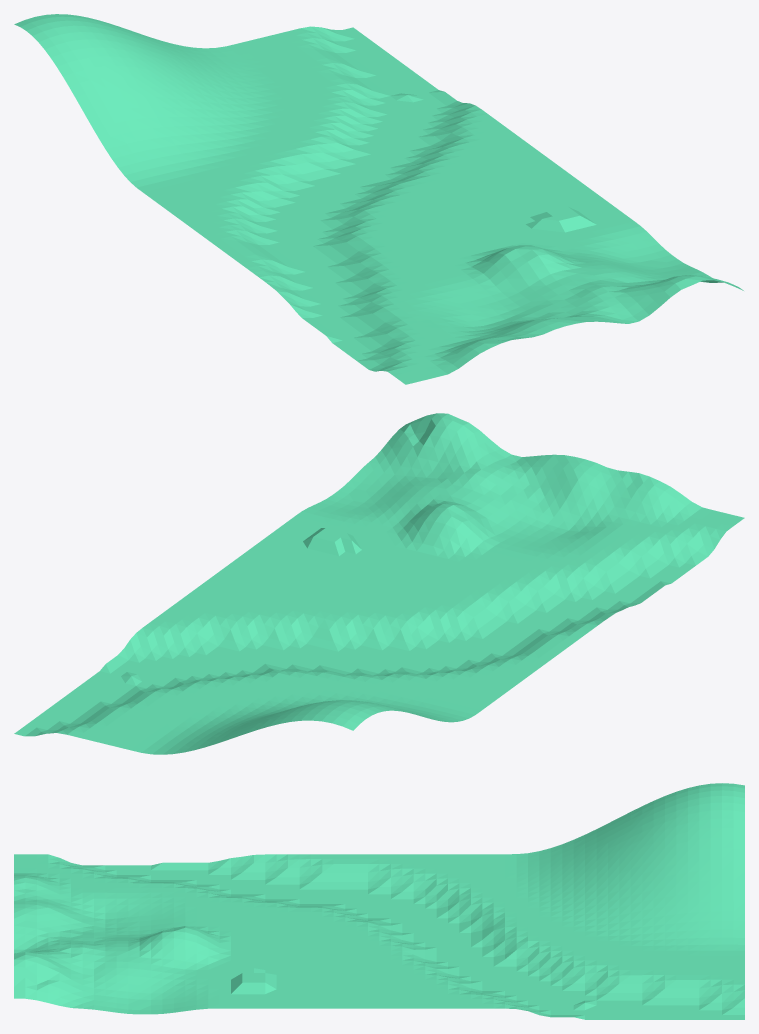
File: nulMap3.gltf
The picture shows the model from 3 angles, top to bottom: view 1: azimuth 30°, elevation 25°; view 2: azimuth 150°, elevation 25°; view 3: azimuth 270°, elevation 25°; orthographic projection. The views are drawn at different scales.
Parts seen in each view (by area): view 1: Grid; view 2: Grid; view 3: Grid.
Boxes of the visible parts, <box> form: Grid: <box>14,14,743,384</box>; Grid: <box>14,413,744,754</box>; Grid: <box>14,783,744,1019</box>.
Size of the model in its own units: 512 by 131 by 1024.
